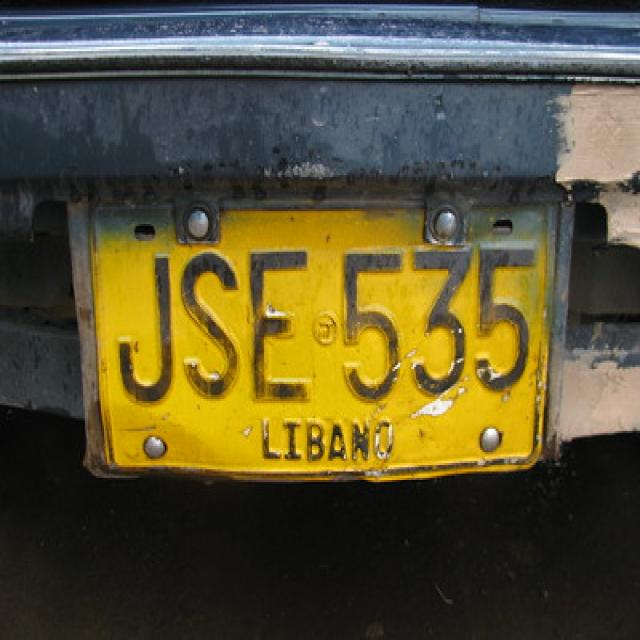placa_carro: (44, 171, 598, 511)
